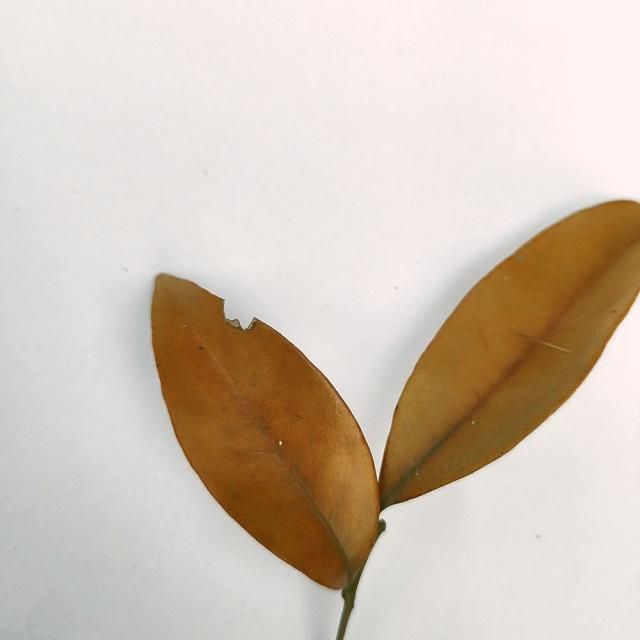Dry_Leaf-Lychee: (149, 201, 639, 630)
